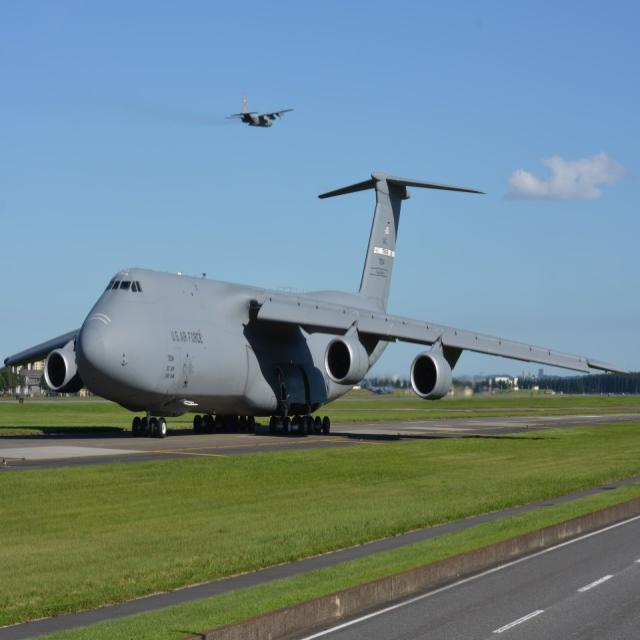MIL_Plane: (5, 170, 628, 439), (362, 376, 395, 395), (223, 106, 294, 112)
